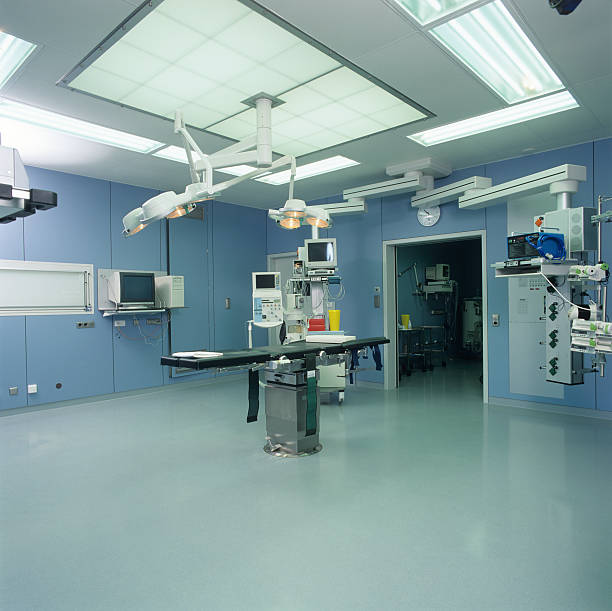bedside_monitor: (303, 239, 338, 268), (253, 271, 282, 296)
computer: (108, 272, 184, 308)
iv_pole: (588, 191, 612, 319)
operating_bed: (162, 332, 398, 464)
surgical_light: (123, 182, 211, 236), (267, 199, 330, 230)
syringe_pump: (566, 262, 612, 285), (570, 333, 612, 353), (570, 317, 612, 336)
utility_cart: (398, 327, 426, 377), (424, 325, 448, 368)
